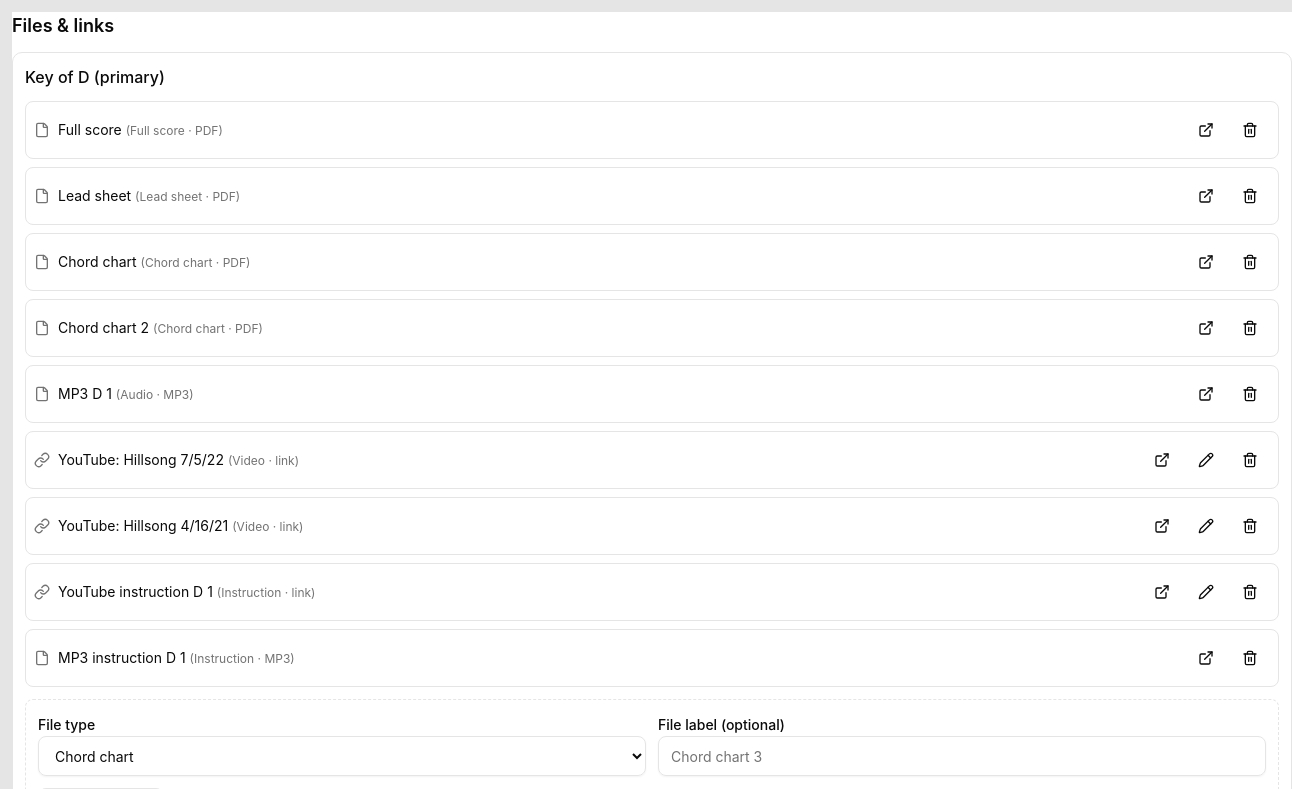
Test: ResourcesSection › edits a link in place
Click the button named "Edit YouTube: Hillsong 7/5/22": (1206, 460) [1186,440,1226,480]
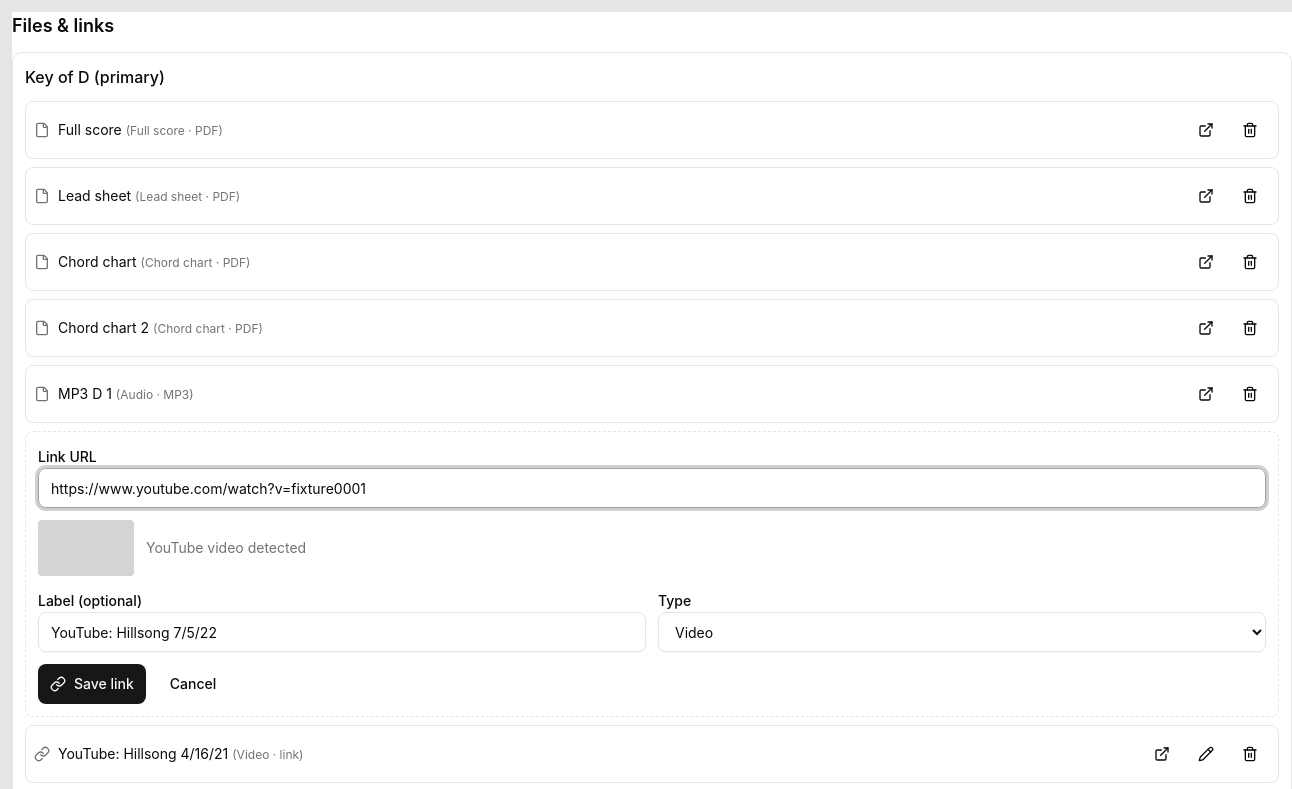
Replace the text in the field labelled "Label (optional)" with "Live": (342, 632) [38,612,646,652]
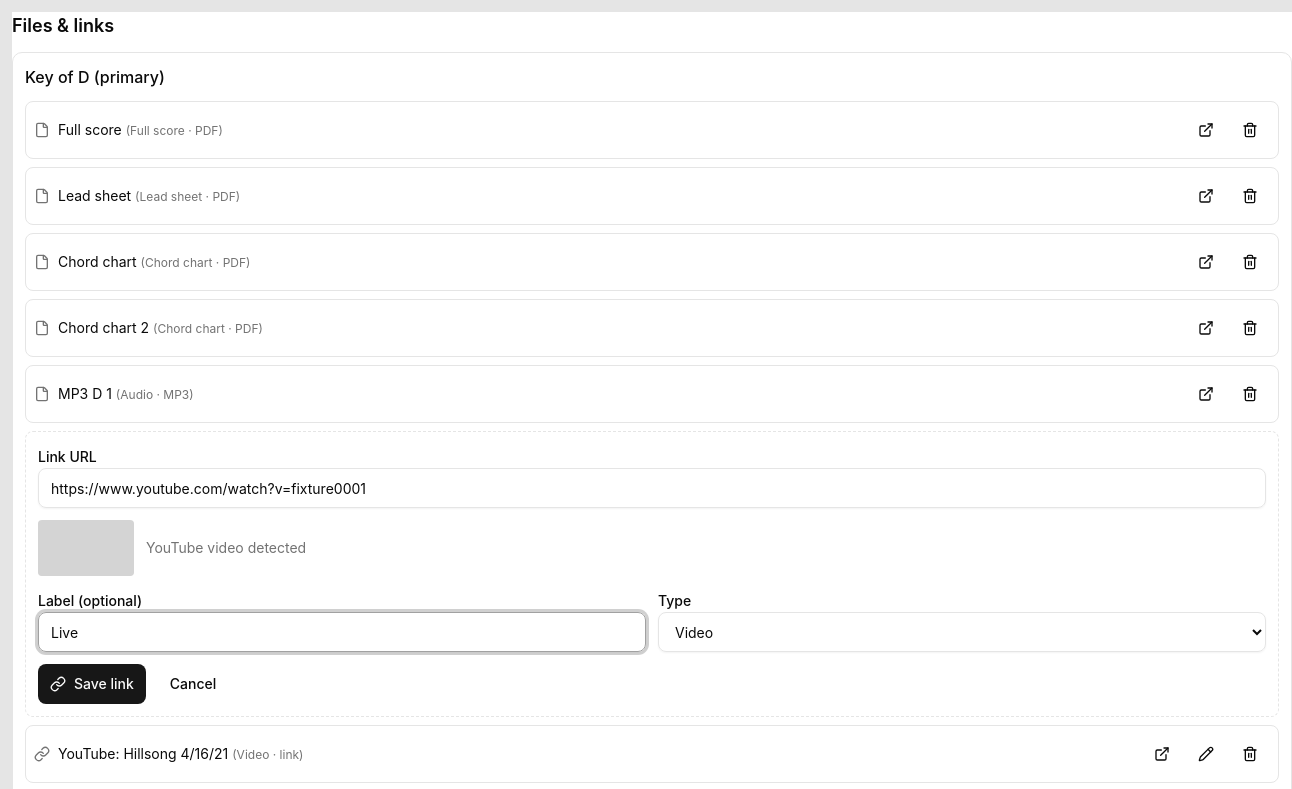
Click the button "Save link": (92, 684) [38,664,146,704]
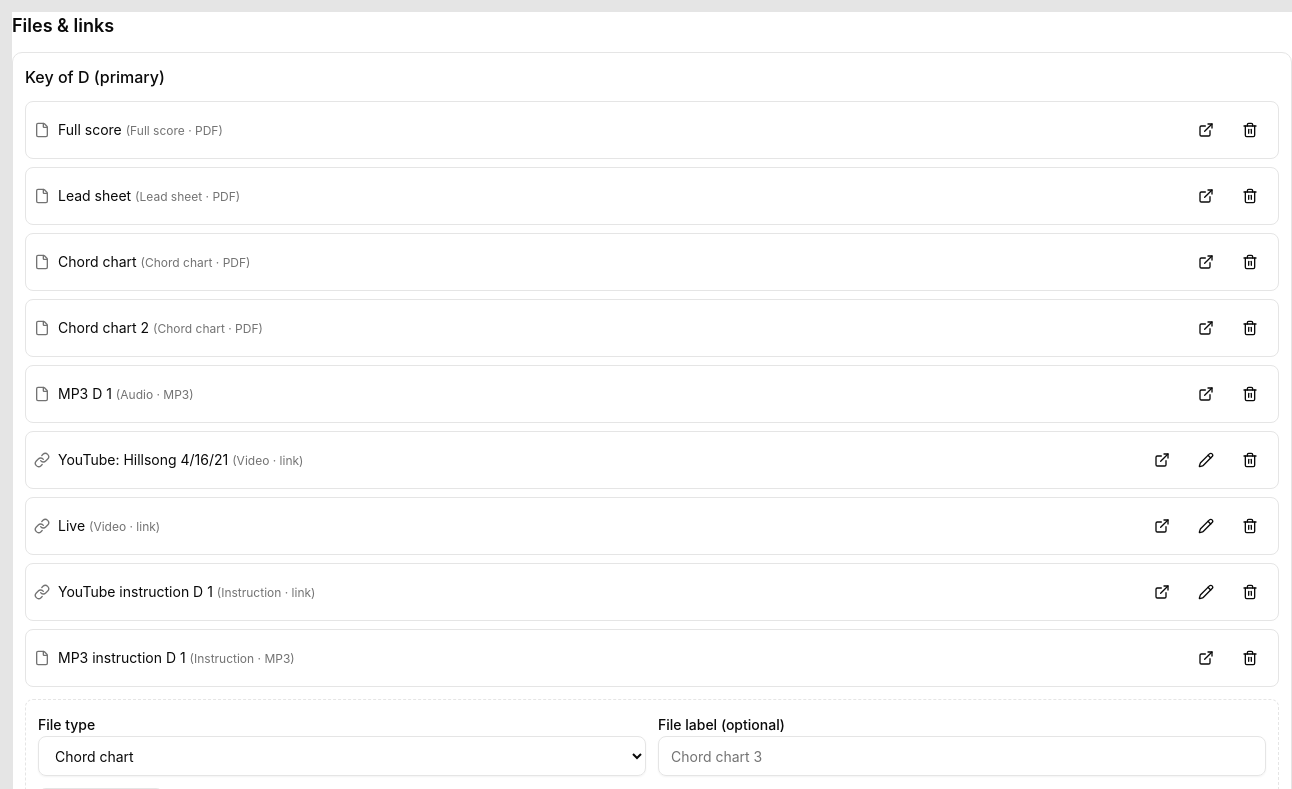
Result: the text "Live" is shown at [58,517,85,534]
